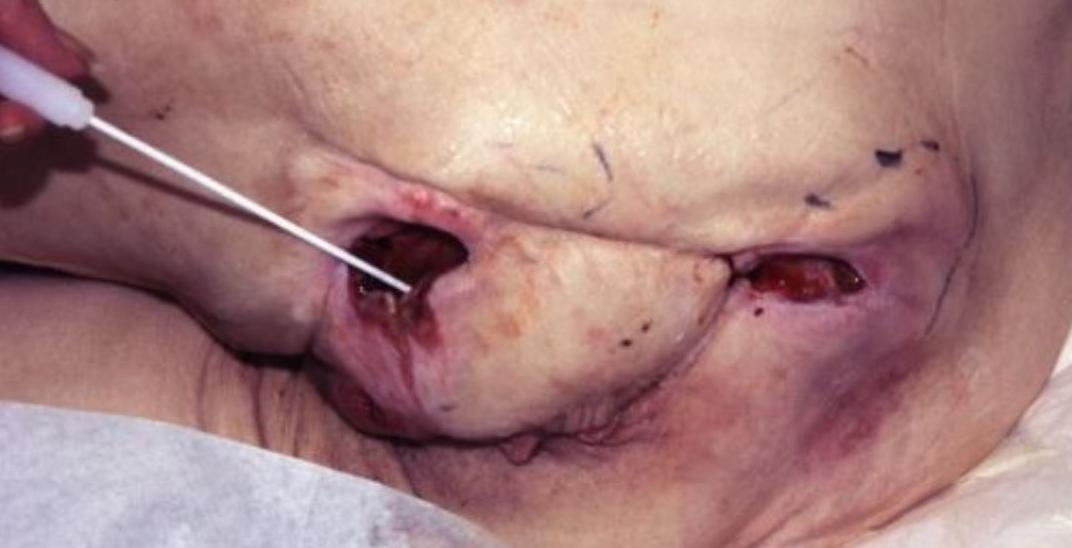Stage3: (307, 163, 534, 350)
